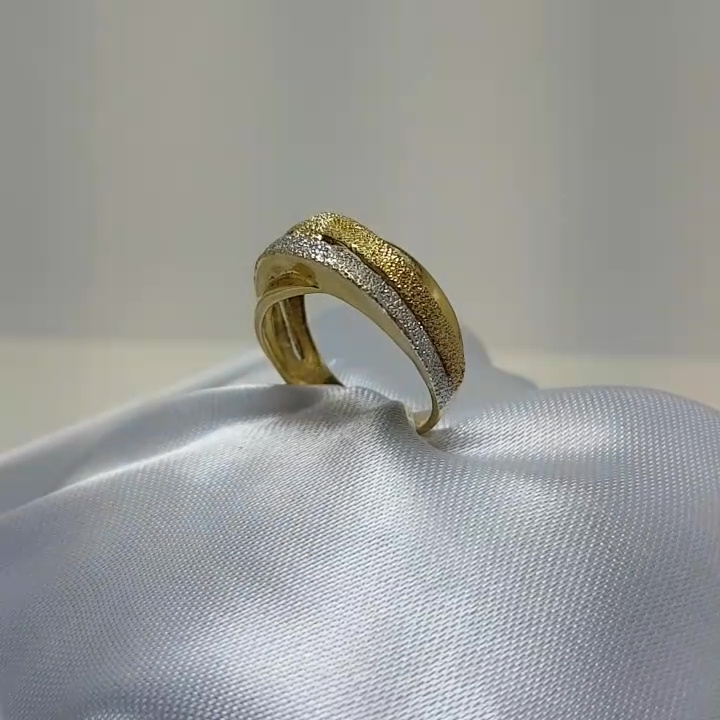Ring 5: (245, 179, 478, 469)
